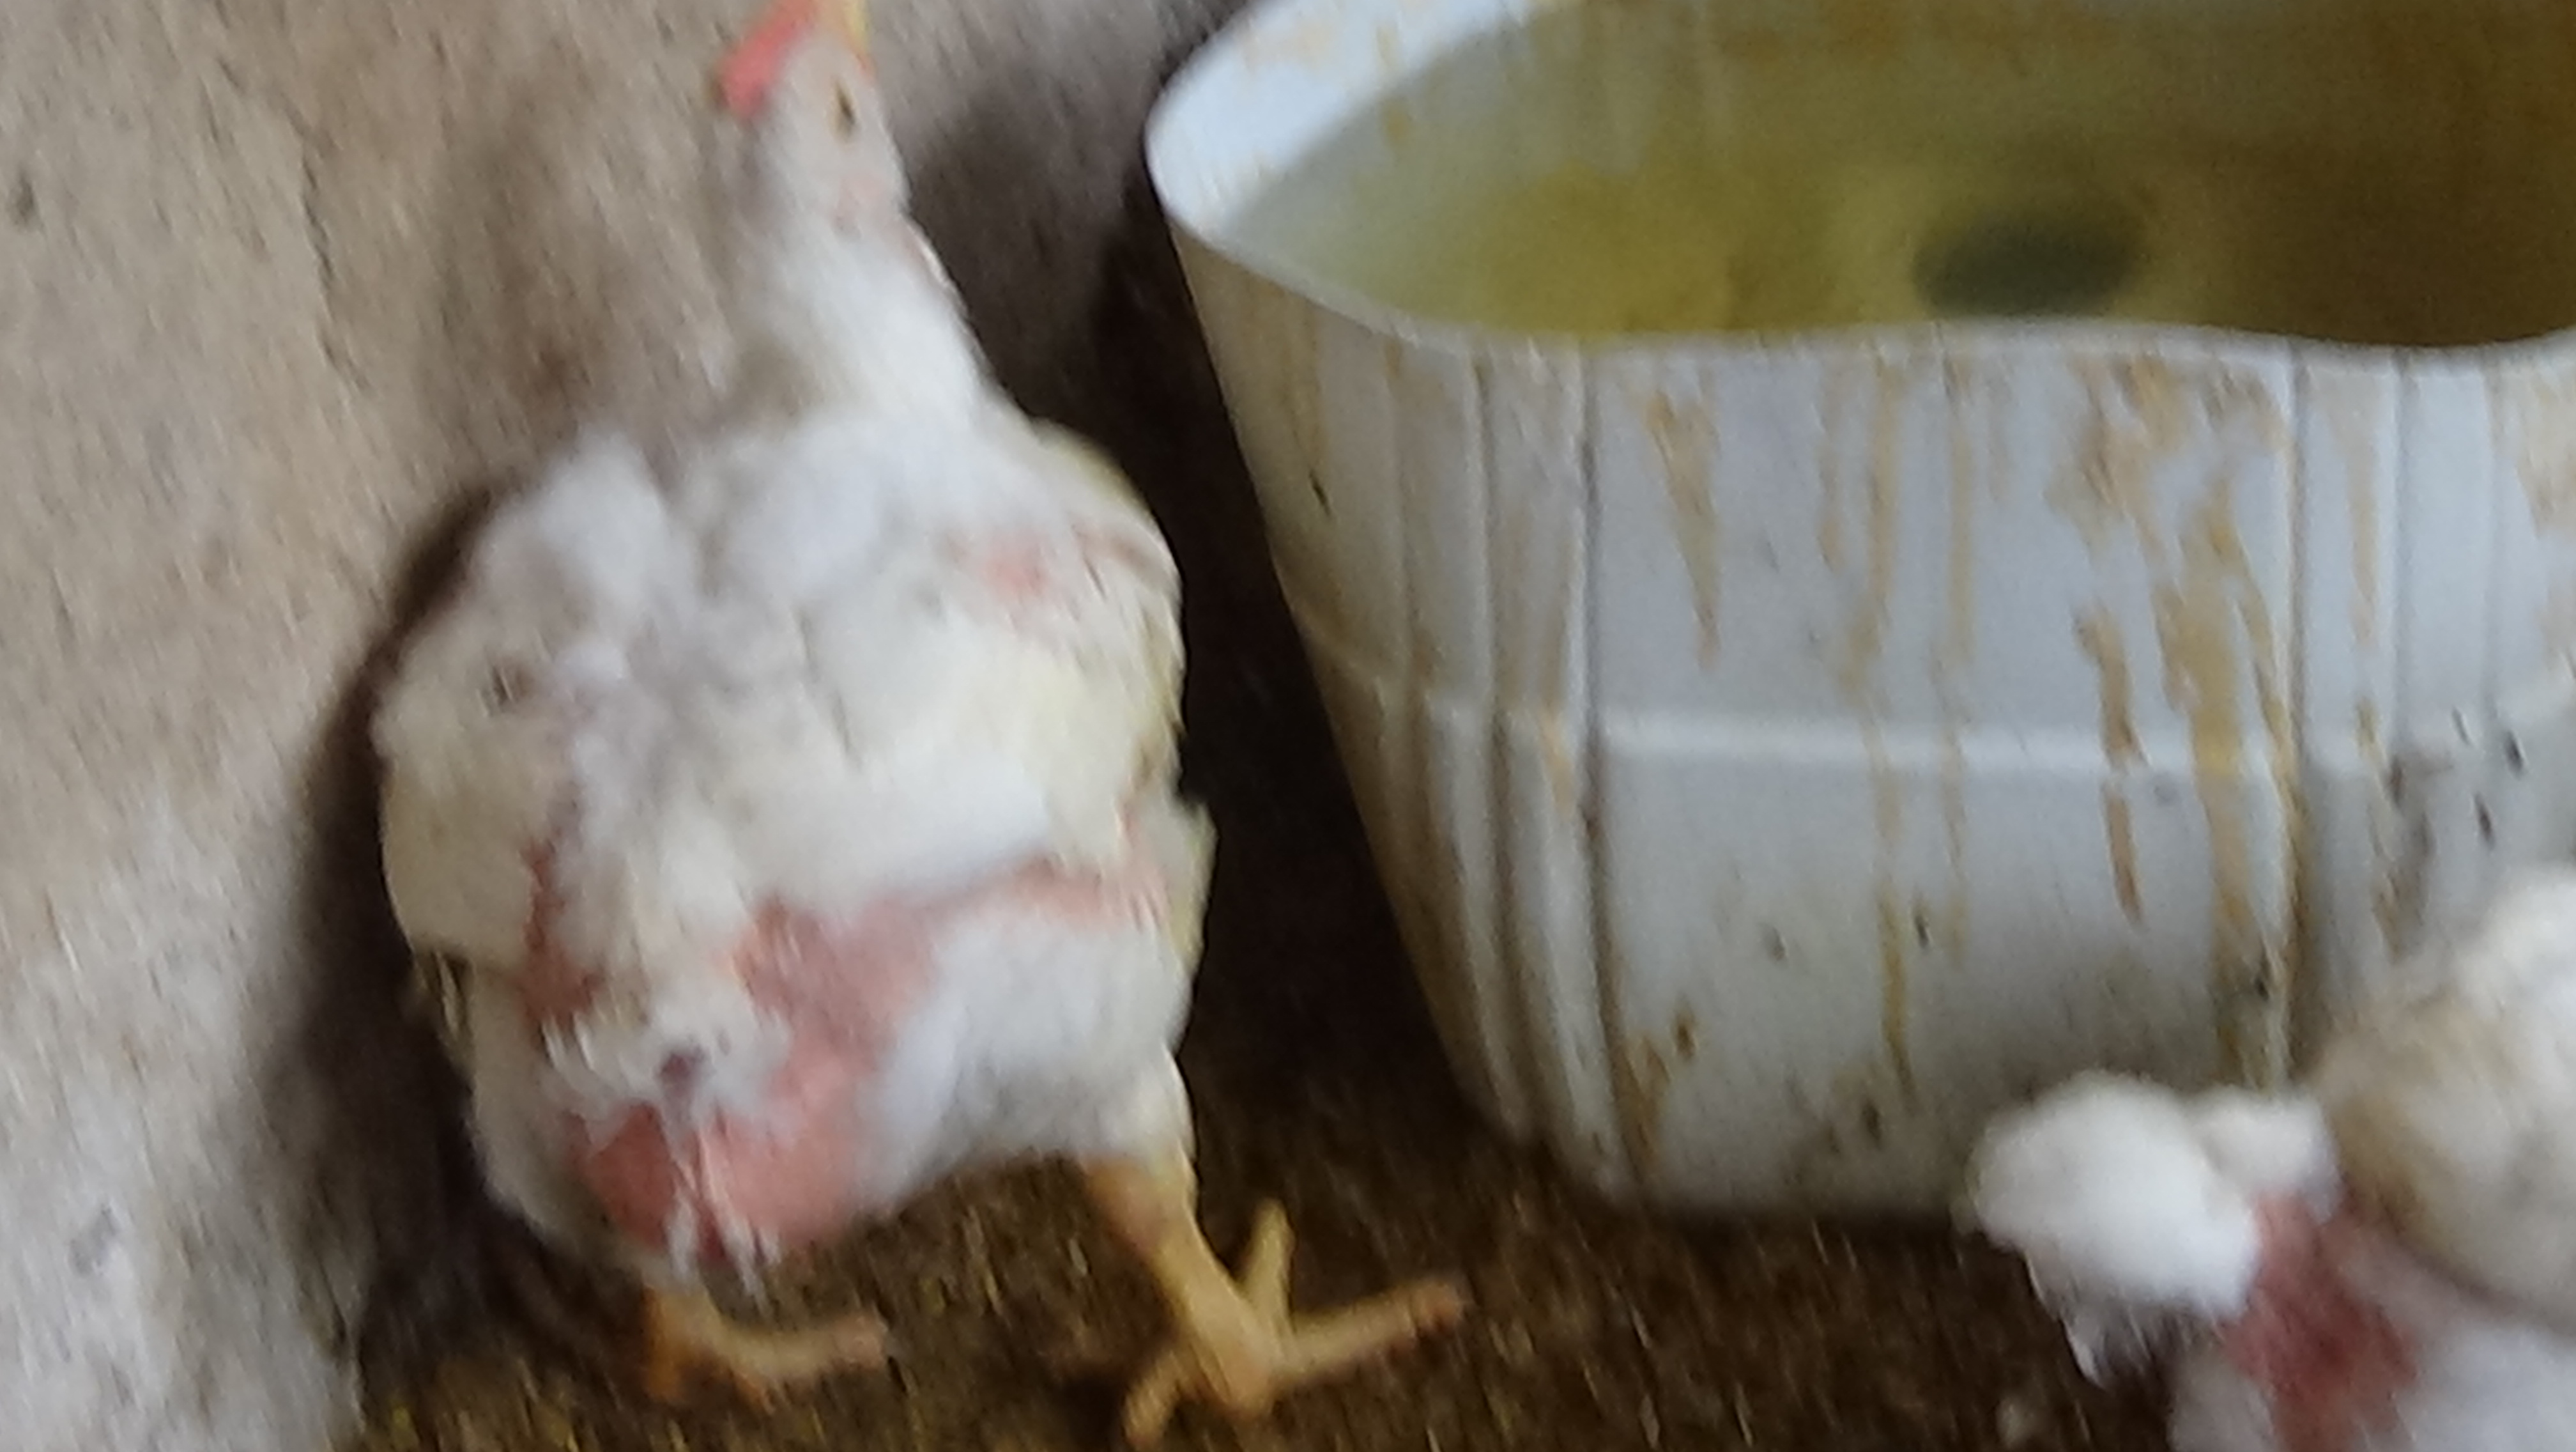Pollos: (329, 0, 1523, 1443)
